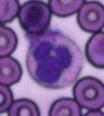N: (27, 28, 82, 90)
